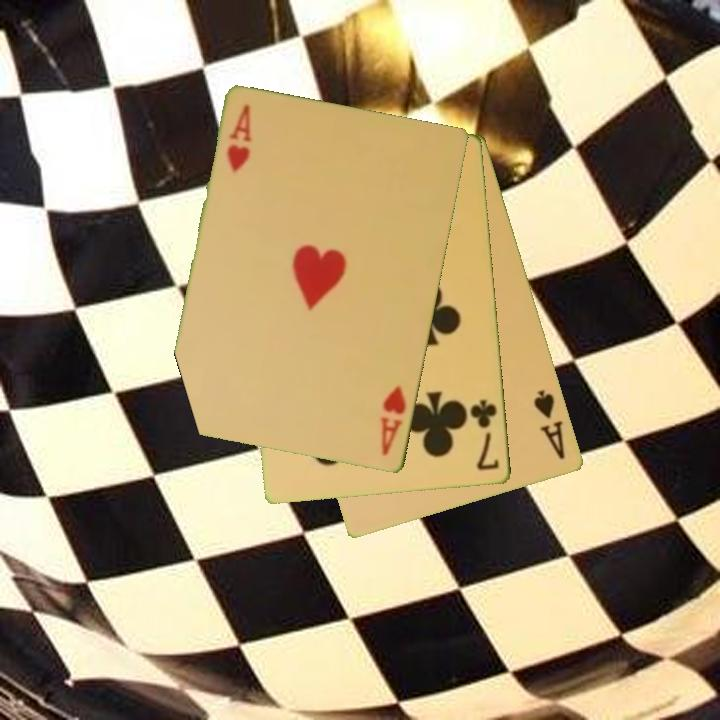7c: (467, 396, 502, 474)
Ah: (377, 382, 410, 459), (223, 101, 255, 176)
As: (530, 386, 569, 463)
